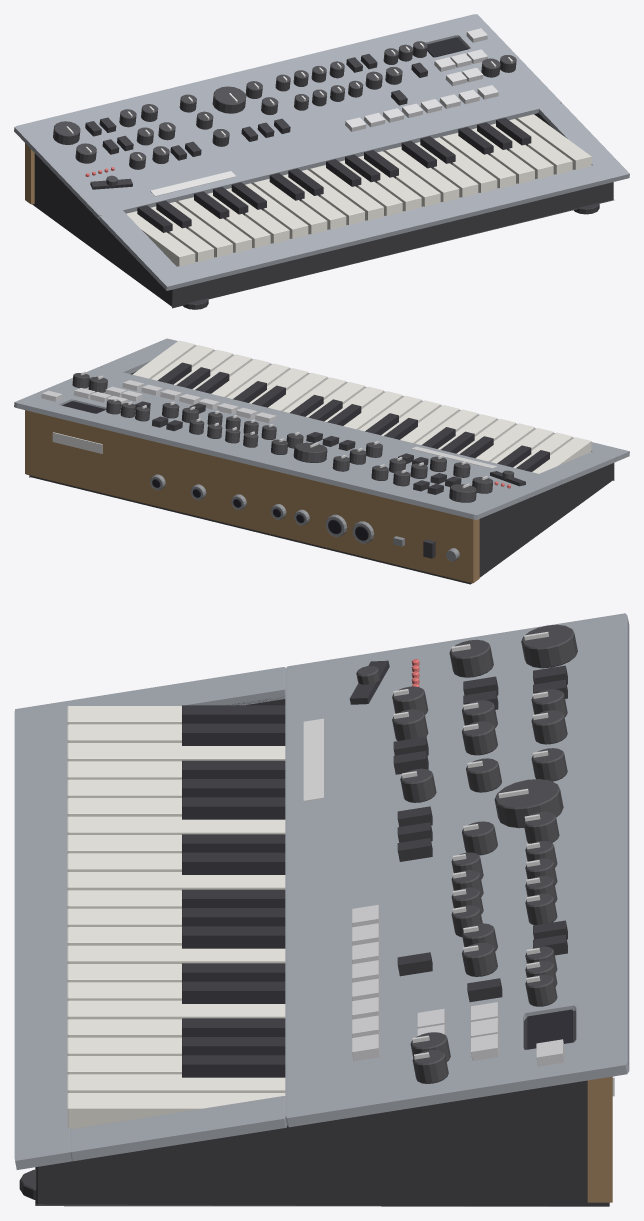
File: minilogue_v18.glb
The picture shows the model from 3 angles, top to bottom: view 1: azimuth 30°, elevation 25°; view 2: azimuth 150°, elevation 25°; view 3: azimuth 270°, elevation 25°; orthographic projection. The views are drawn at different scales.
Parts seen in each view (by area): view 1: Cube.041, Body, Cube.044, Cube.042, Cube.043, Cube.025, Cube.004, Cube.011, Cube.018, Cube.021, Cube.014, Cube.007 (+35 smaller); view 2: Cube, Cube.041, Body, Cube.042, Cube.025, Cube.043, Cube.004, Cube.021, Cube.014, Cube.007, Cube.011, Cube.018 (+35 smaller); view 3: Cube.041, Body, Cube.044, Cube.043, Cube.042, Cube.025, Cube.020, Cube.024, Cube.010, Cube.017, Cube.006, Cube.013 (+47 smaller).
Part boxes in pixels (<box>): Cube.041: <box>14,14,561,219</box>; Body: <box>32,37,614,308</box>; Cube.044: <box>153,159,629,290</box>; Cube.042: <box>99,210,176,276</box>; Cube.043: <box>539,103,615,165</box>; Cube.025: <box>516,114,591,169</box>; Cube.004: <box>126,211,195,266</box>; Cube.011: <box>251,178,327,234</box>; Cube.018: <box>383,146,459,202</box>; Cube.021: <box>440,133,515,188</box>; Cube.014: <box>308,165,383,220</box>; Cube.007: <box>176,197,251,252</box>; Cube: <box>25,410,479,583</box>; Cube.041: <box>14,367,561,519</box>; Body: <box>29,371,614,584</box>; Cube.042: <box>539,451,615,484</box>; Cube.025: <box>133,340,195,378</box>; Cube.043: <box>100,344,168,373</box>; Cube.004: <box>532,437,591,473</box>; Cube.021: <box>211,359,270,397</box>; Cube.014: <box>343,391,402,429</box>; Cube.007: <box>476,423,534,461</box>; Cube.011: <box>400,405,459,443</box>; Cube.018: <box>268,372,327,411</box>; Cube.041: <box>285,613,629,1127</box>; Body: <box>35,697,609,1206</box>; Cube.044: <box>14,700,71,1169</box>; Cube.043: <box>70,1096,286,1161</box>; Cube.042: <box>70,667,285,705</box>; Cube.025: <box>67,1093,285,1129</box>; Cube.020: <box>67,1000,285,1019</box>; Cube.024: <box>67,1074,285,1092</box>; Cube.010: <box>67,816,285,834</box>; Cube.017: <box>67,945,285,963</box>; Cube.006: <box>67,743,285,761</box>; Cube.013: <box>67,872,285,890</box>.
Bounding box in the file's own units: 5.14 × 0.9226 × 2.95.
